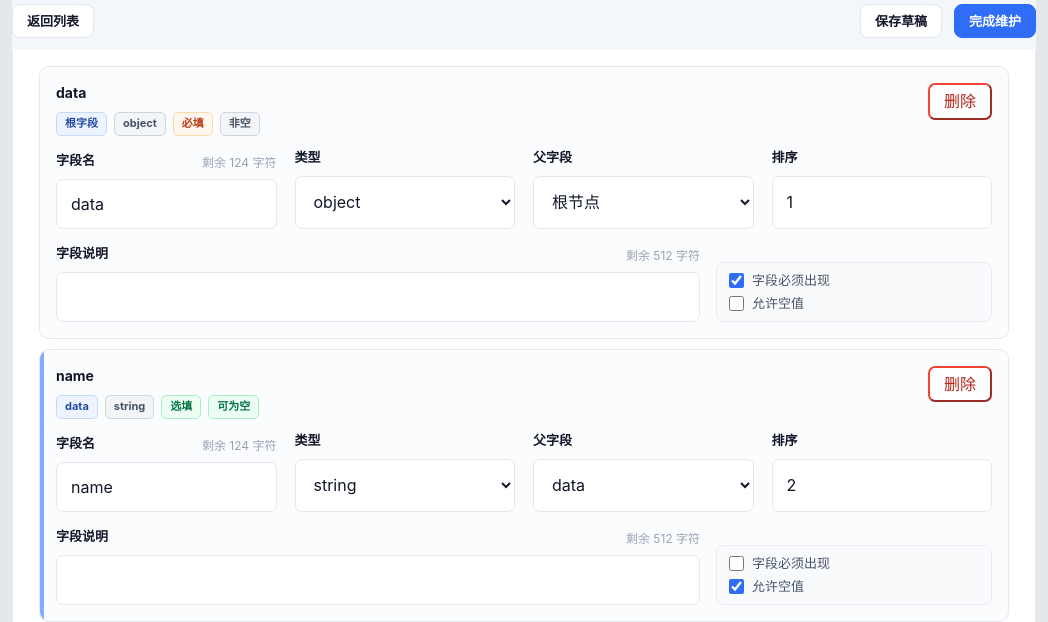
Test: InterfaceDocMaintenanceView › 叶子响应字段直接删除且不打开确认对话框
(page scrolled)
Click the button with class "fei-action-btn--danger" in the row of "可为空": click(960, 384) [928,366,992,402]
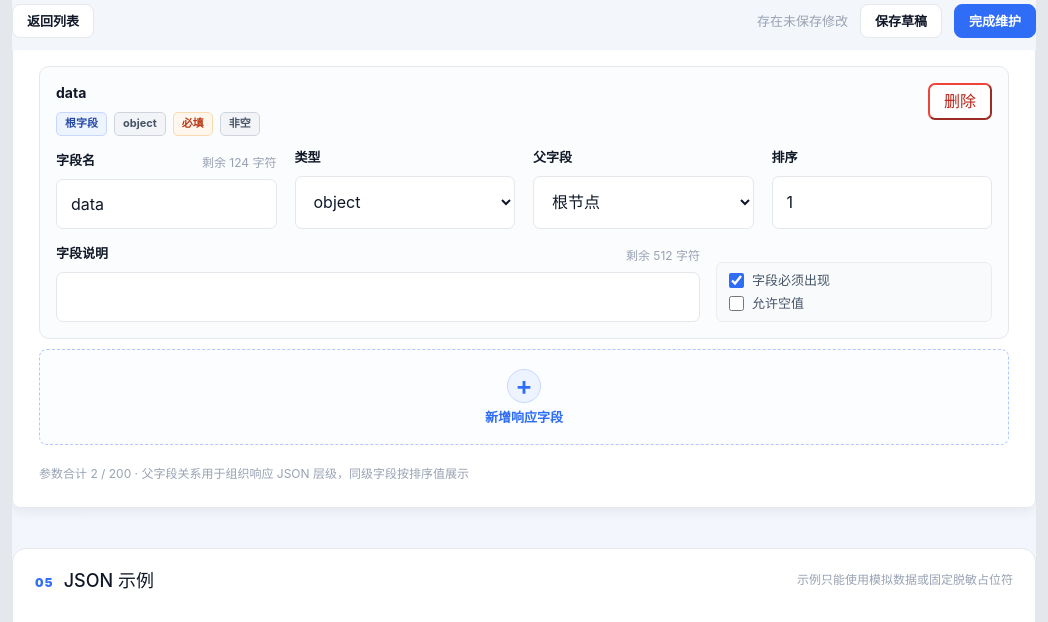
Now the text with class "fei-doc-section" no longer shows "name"
